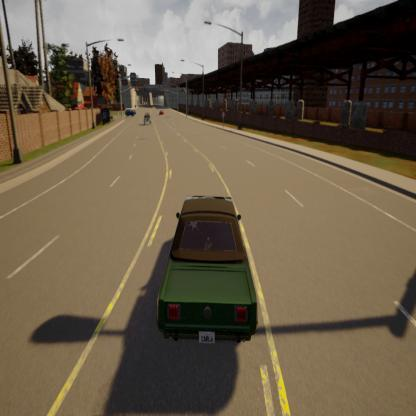Cars: (154, 181, 264, 363), (142, 112, 152, 126), (125, 107, 136, 117), (156, 108, 167, 115)
